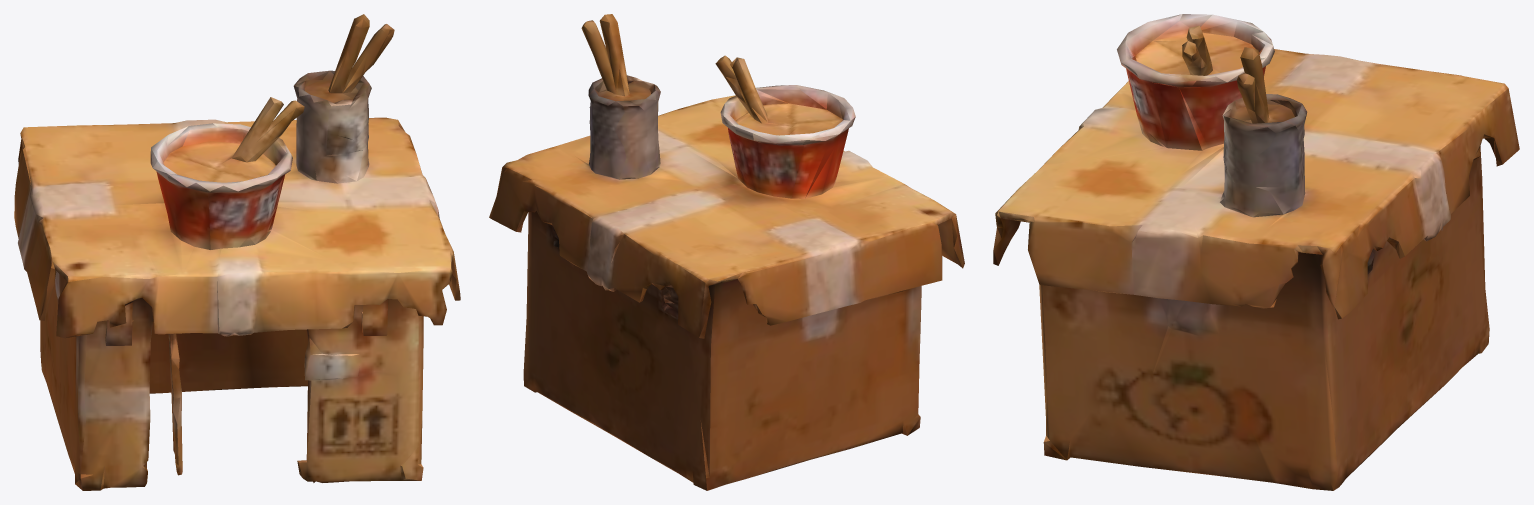
Rendered from misc02.glb.
The picture shows the model from 3 angles, left to right: view 1: azimuth 30°, elevation 25°; view 2: azimuth 150°, elevation 25°; view 3: azimuth 270°, elevation 25°; orthographic projection. The views are drawn at different scales.
Size of the model in its own units: 0.2679 by 0.2336 by 0.2608.
1 material, 1 textured.
